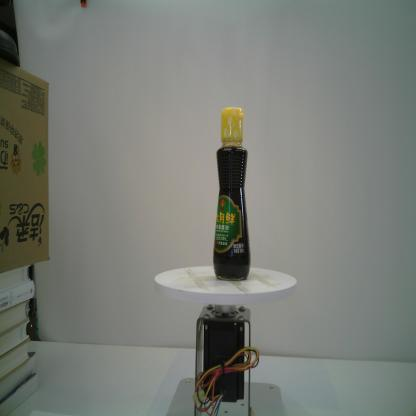Seasoner: (210, 104, 253, 284)
